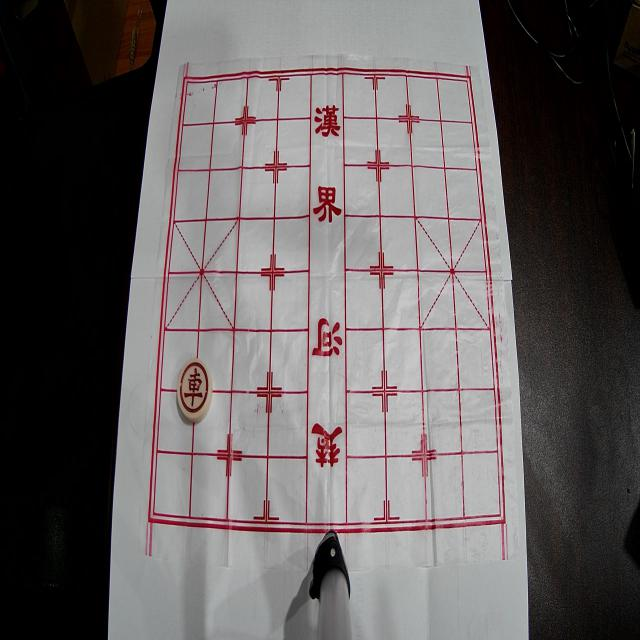red-chariot: (178, 358, 212, 423)
